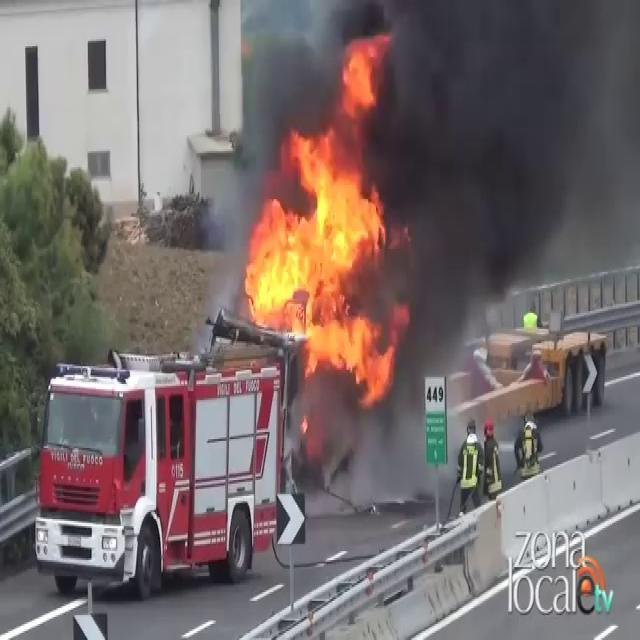Fire: (238, 77, 400, 396)
Smoke: (362, 0, 640, 332)
